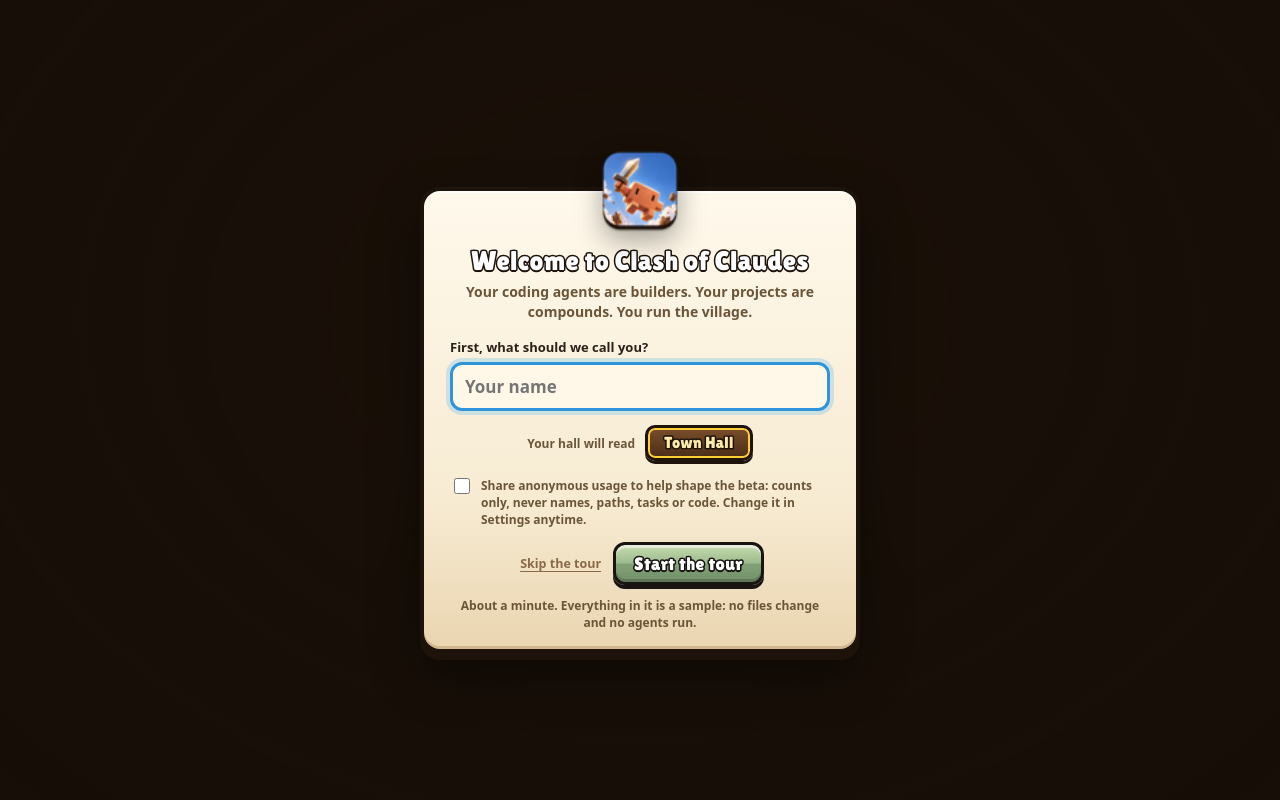
it: the welcome › asks for a name and shows the hall plate it will make
Expected: the dialog with test id "tour-welcome" is shown, [420,187,860,653]
Expected: the button "Start the tour" is disabled, [613,542,764,585]
Type "  Fabian " into the field named "Your name" at (640, 387), box [450,362,830,411]
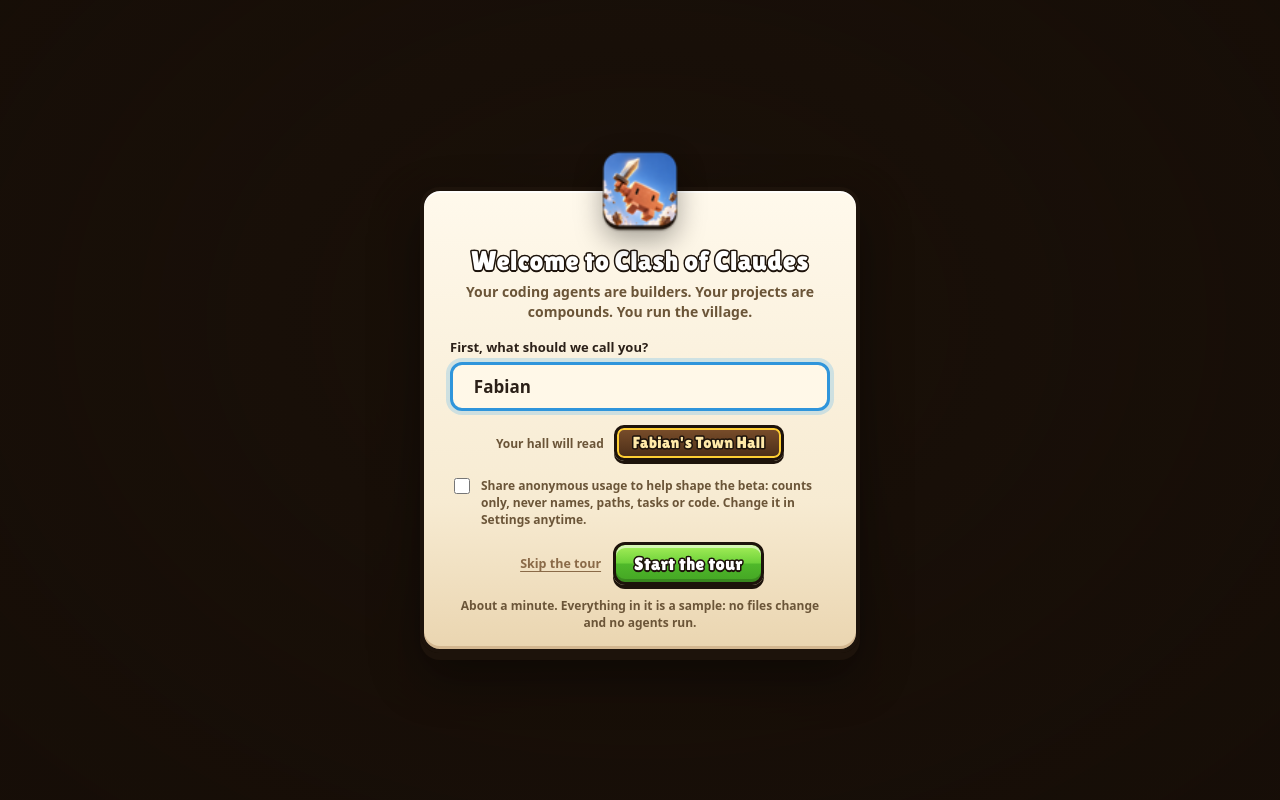
Expected: the text with test id "tour-plate" reads "Fabian's Town Hall", [633,433,765,452]
Expected: the button "Start the tour" is enabled, [613,542,764,585]
